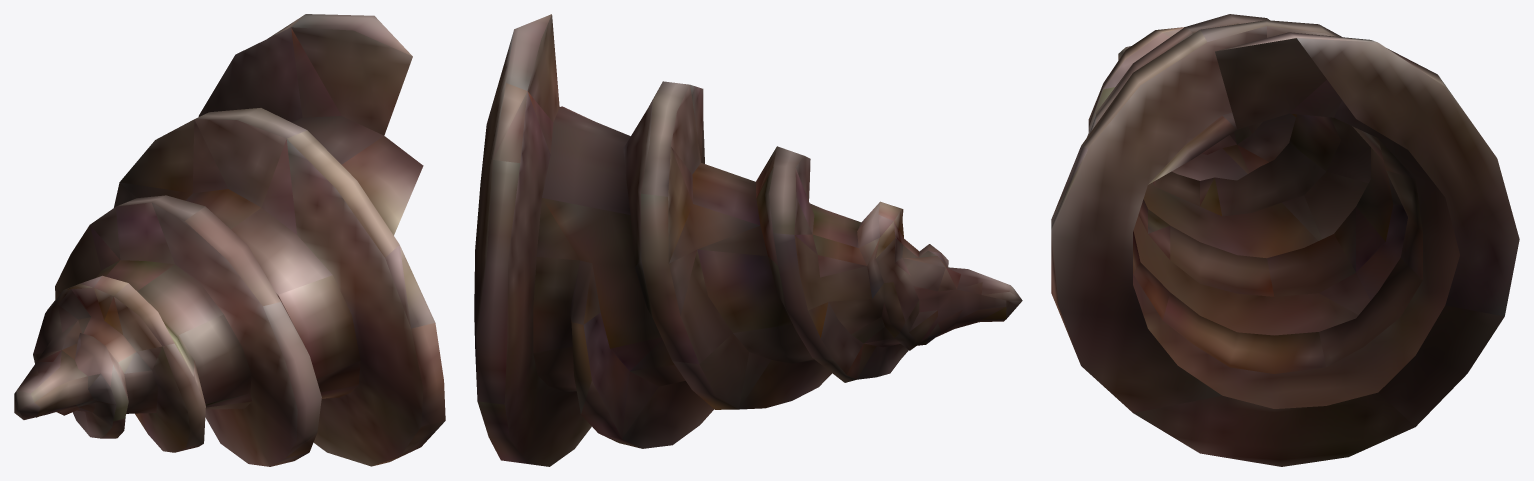
Rendered from drill_head.glb.
3 views of the same model, side by side, from view 1: azimuth 30°, elevation 25°; view 2: azimuth 150°, elevation 25°; view 3: azimuth 270°, elevation 25° (orthographic). The views are drawn at different scales.
Parts seen in each view (by area): view 1: drill_head; view 2: drill_head; view 3: drill_head.
Boxes of the visible parts, bbox=[...] form: drill_head: bbox=[14, 14, 445, 466]; drill_head: bbox=[474, 14, 1022, 466]; drill_head: bbox=[1051, 14, 1519, 466].
Size of the model in its own units: 0.1384 by 0.1268 by 0.1211.
1 material, 1 textured.
